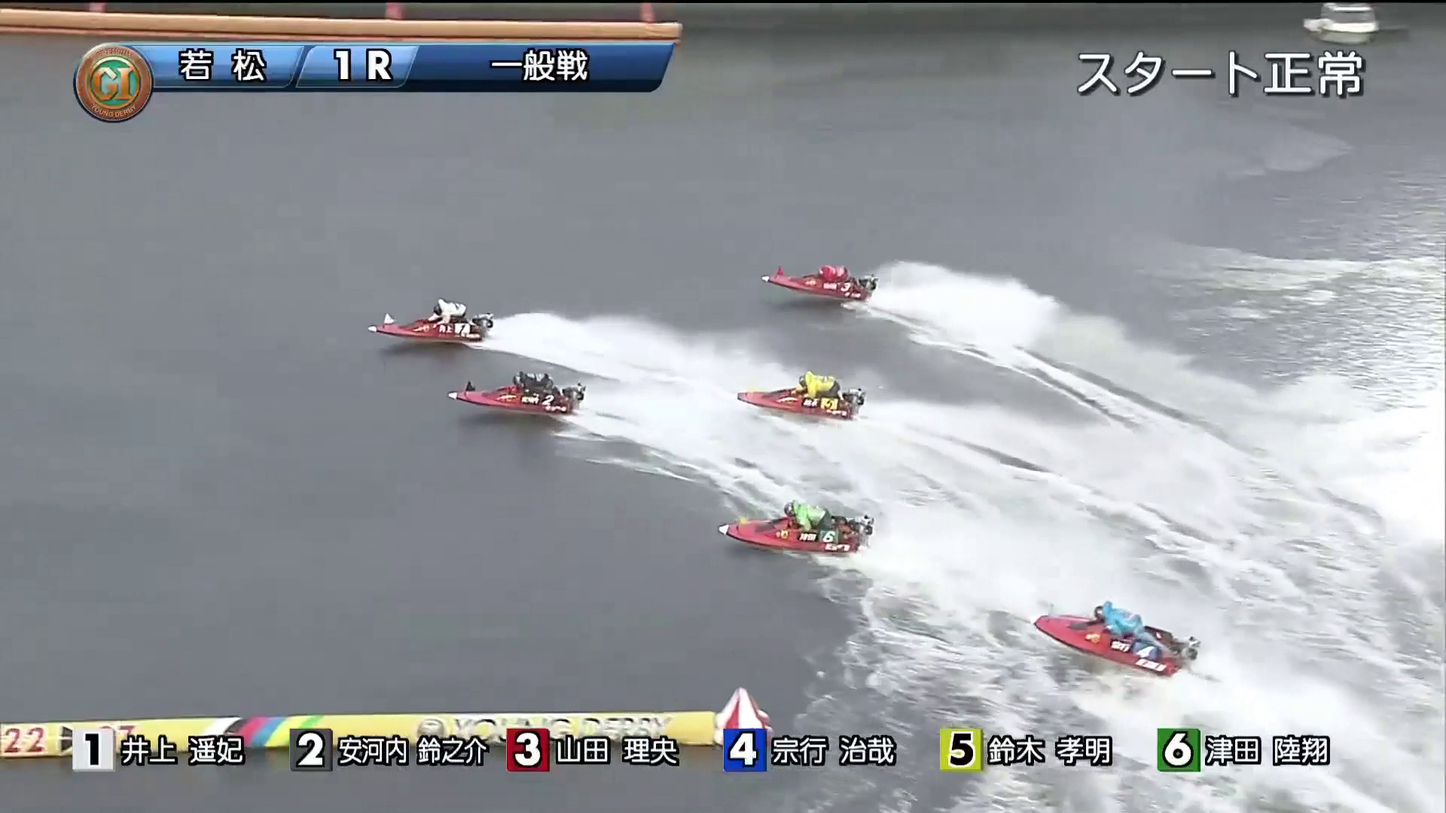１号艇: (373, 272, 444, 325)
２号艇: (425, 370, 554, 431)
３号艇: (781, 251, 879, 310)
４号艇: (746, 491, 879, 556)
５号艇: (1062, 609, 1186, 664)
６号艇: (741, 357, 841, 437)
